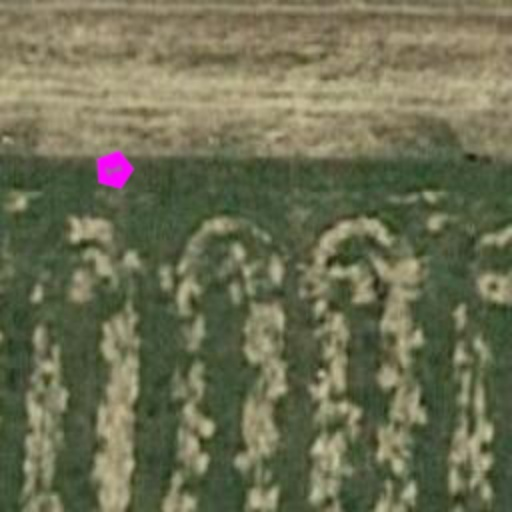pentagon: (86, 142, 142, 198)
